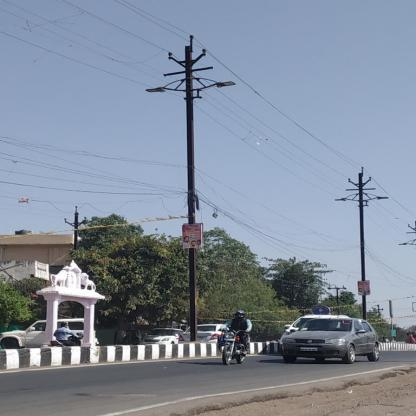Electrical Pole: (147, 33, 234, 340)
